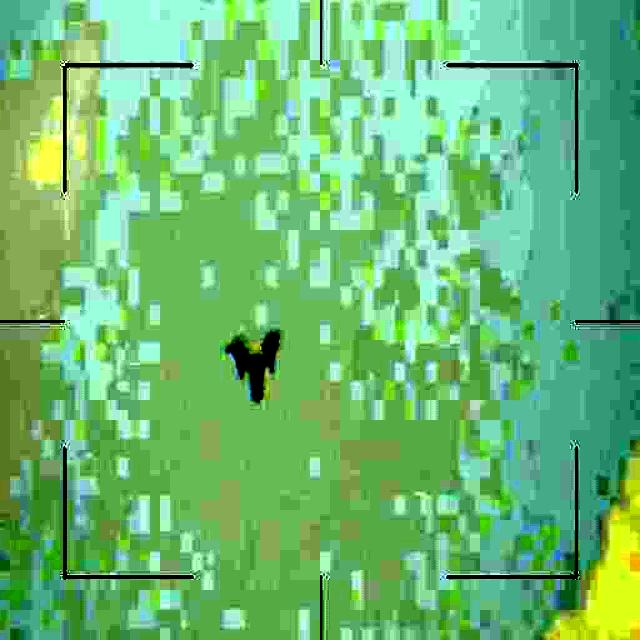bird: (226, 328, 281, 408)
